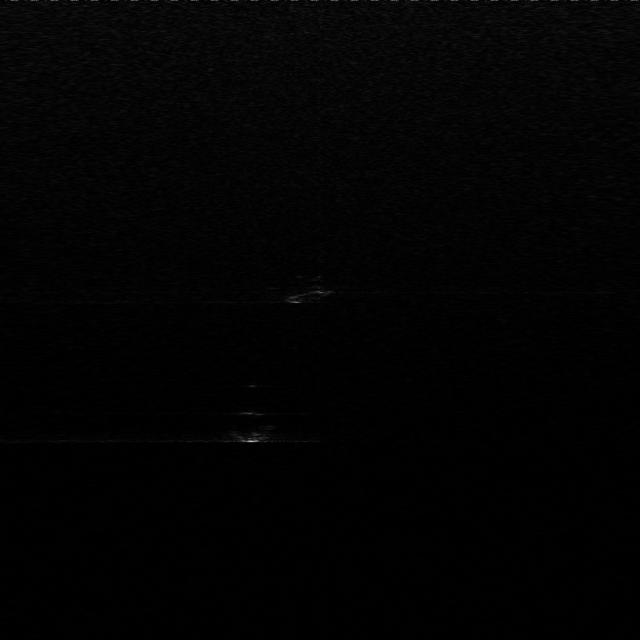ball: (221, 402, 287, 446)
tyre: (277, 272, 338, 307)
